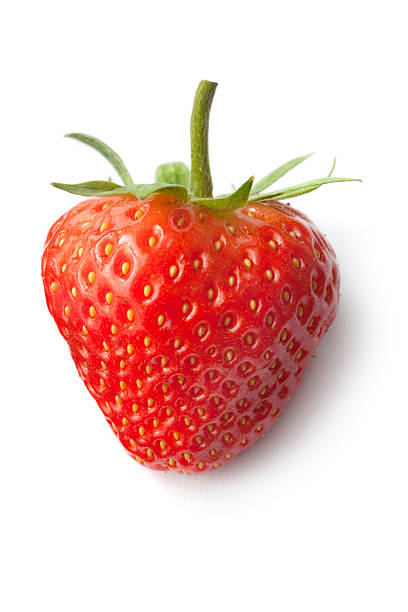Fresa: (37, 172, 354, 485)
